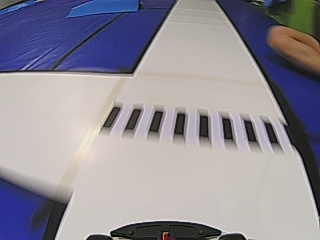CrossWalk: (102, 104, 274, 145)
